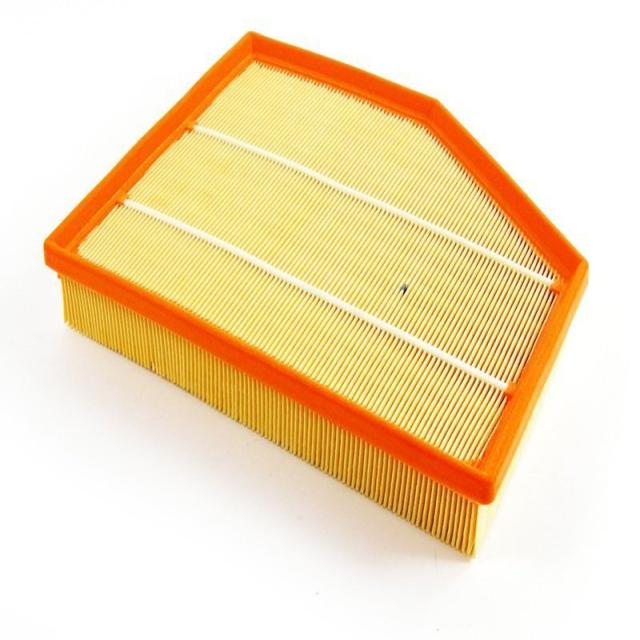air_filter: (39, 24, 592, 556)
